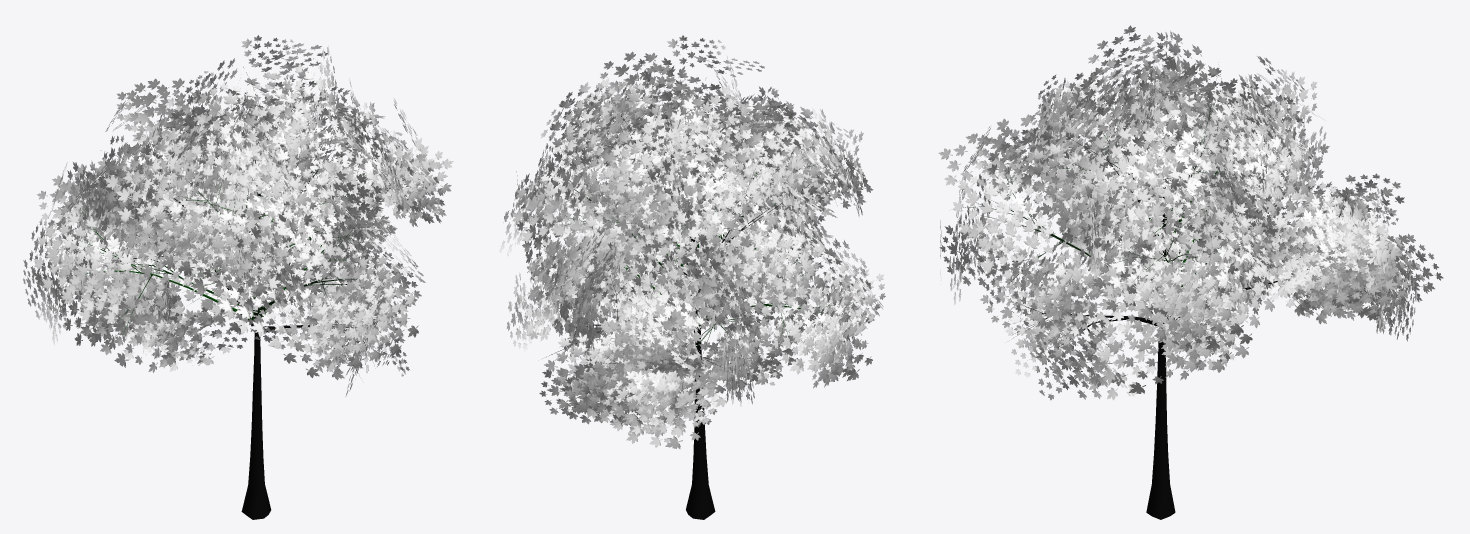
File: Tree_Blender_001.fbx
3 views of the same model, side by side, from view 1: azimuth 30°, elevation 25°; view 2: azimuth 150°, elevation 25°; view 3: azimuth 270°, elevation 25° (orthographic). The views are drawn at different scales.
Parts seen in each view (by area): view 1: leafclumpatlas_1, _0; view 2: leafclumpatlas_1, _0; view 3: leafclumpatlas_1, _0.
Part boxes in pixels (bbox=[...]): leafclumpatlas_1: bbox=[23, 35, 453, 396]; _0: bbox=[60, 67, 422, 519]; leafclumpatlas_1: bbox=[499, 35, 885, 448]; _0: bbox=[549, 87, 866, 519]; leafclumpatlas_1: bbox=[938, 25, 1443, 400]; _0: bbox=[963, 68, 1391, 519].
Bounding box in the file's own units: 580 × 655 × 653.
